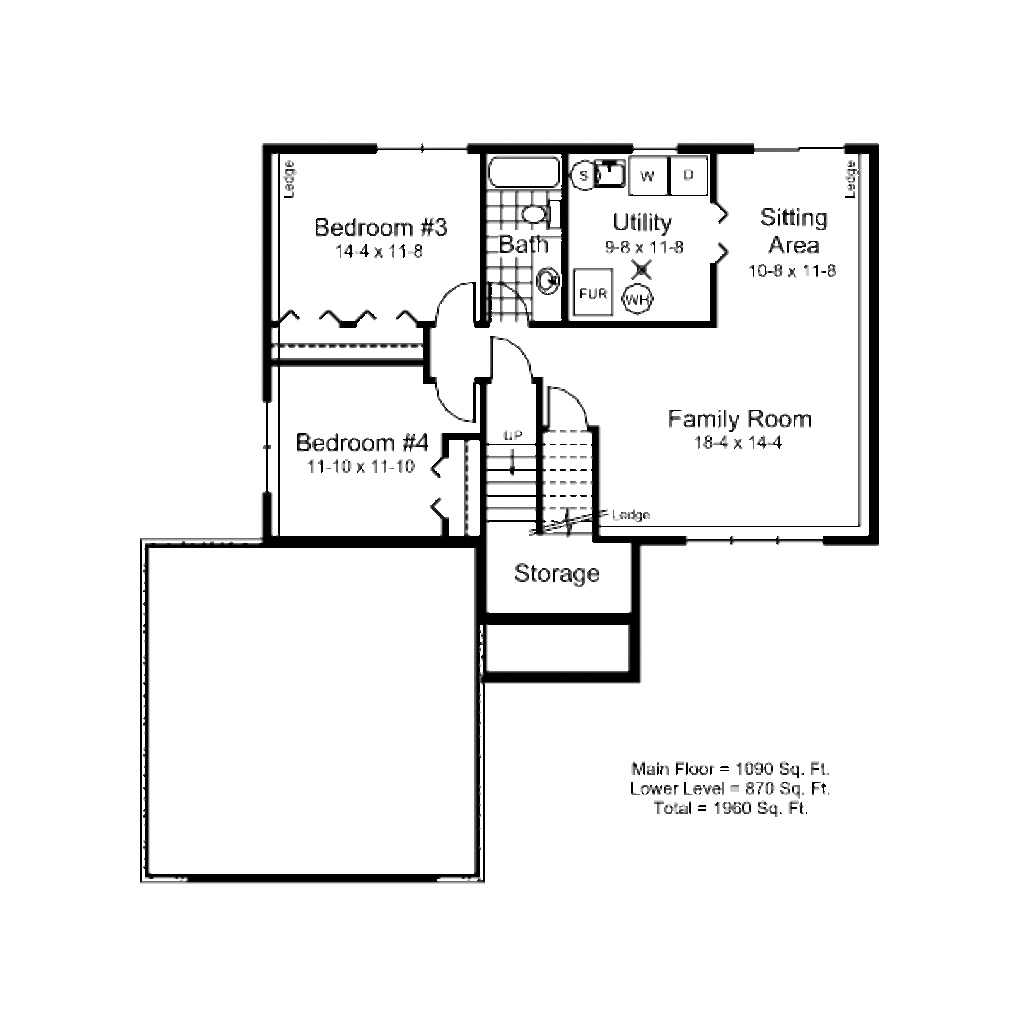door: (472, 335, 536, 392), (544, 378, 591, 432), (433, 274, 480, 325), (431, 378, 478, 425), (495, 278, 533, 327)
large_sink: (509, 194, 567, 238)
small_sink: (534, 257, 564, 324)
stairs: (478, 424, 598, 586)
tub: (477, 149, 561, 192)
window: (691, 527, 825, 550), (375, 141, 477, 160), (259, 399, 277, 489)
